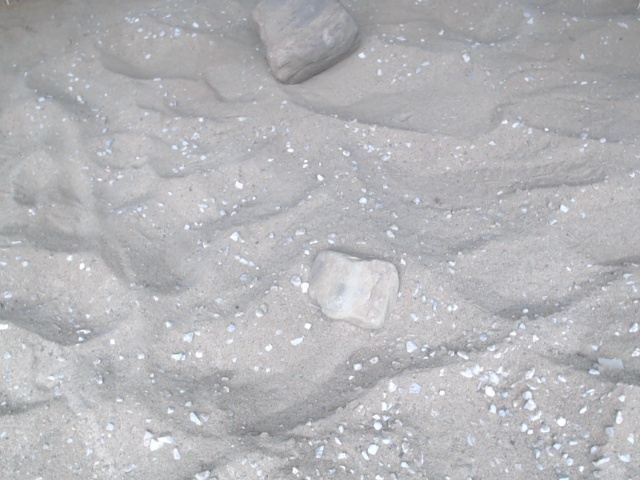rock: (244, 1, 366, 90), (303, 244, 406, 336)
